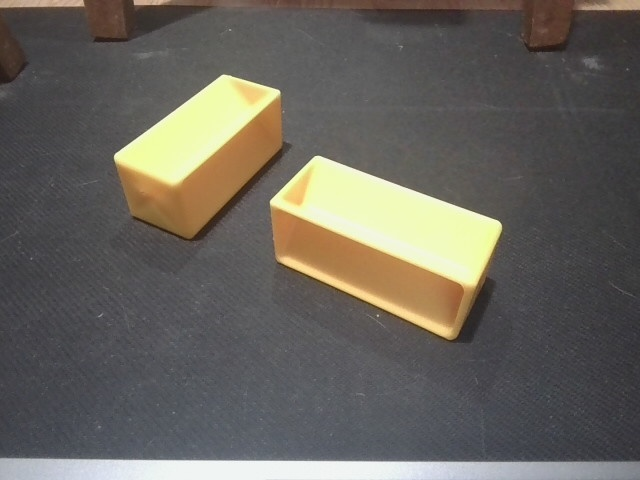YellowSample: (269, 152, 504, 345), (108, 70, 287, 245)
